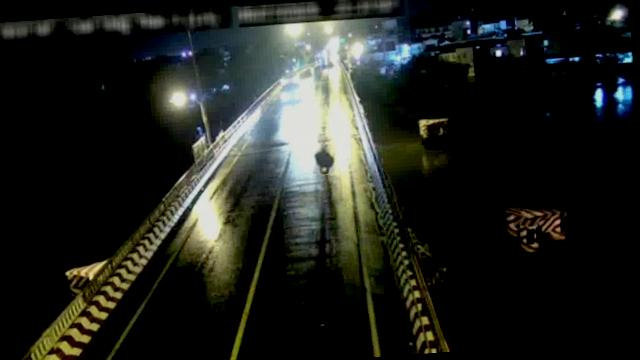Bike: (312, 143, 341, 176)
